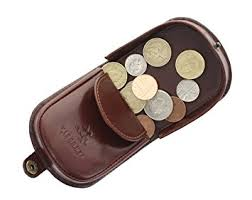monedero: (23, 17, 232, 188)
